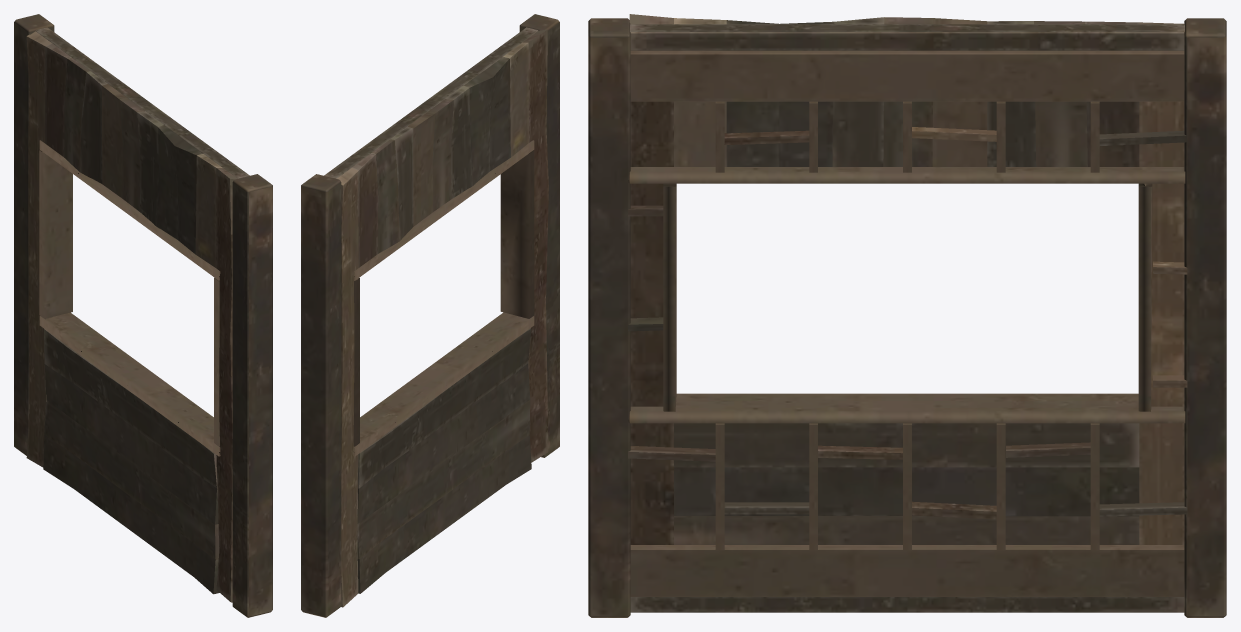
File: wall.window.frontier_variant_c.glb
3 views of the same model, side by side, from view 1: azimuth 30°, elevation 25°; view 2: azimuth 150°, elevation 25°; view 3: azimuth 270°, elevation 25° (orthographic). The views are drawn at different scales.
Visible parts, largest first — view 1: wall.window_c_LOD0; view 2: wall.window_c_LOD0; view 3: wall.window_c_LOD0.
Boxes of the visible parts, left/top/right/bottom form: wall.window_c_LOD0: left=14, top=14, right=272, bottom=617; wall.window_c_LOD0: left=301, top=14, right=559, bottom=617; wall.window_c_LOD0: left=588, top=14, right=1226, bottom=617.
Bounding box in the file's own units: 0.2297 × 3.04 × 3.
Materials: 1 (1 with a texture image).
